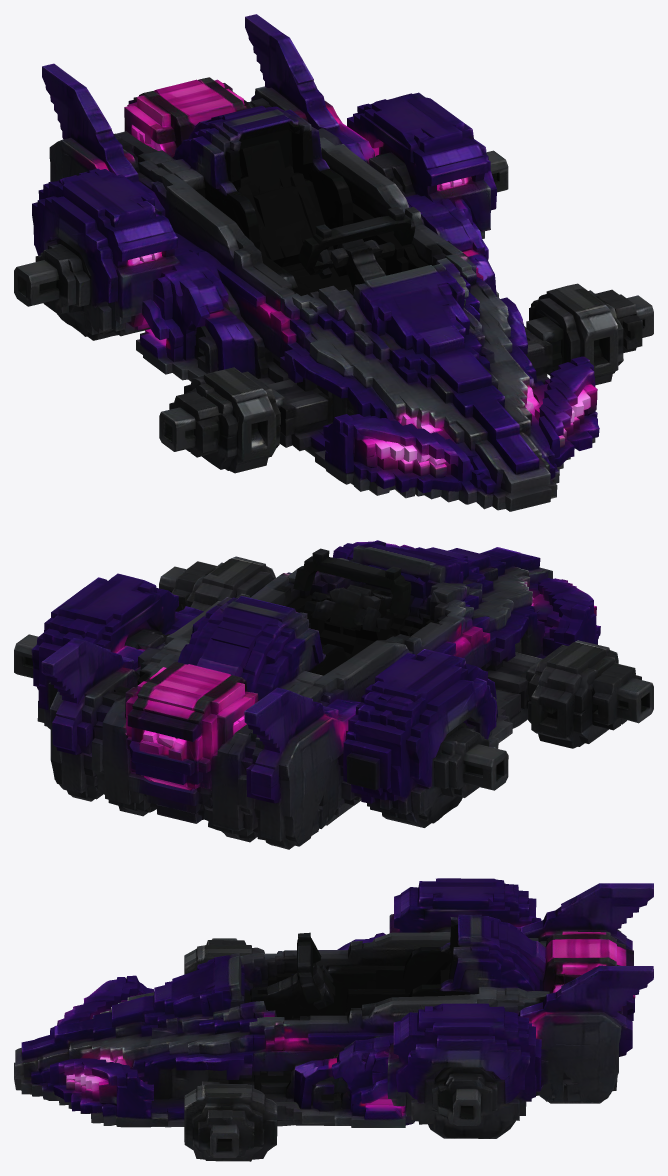
The model's file is violet-mech.glb.
3 views of the same model, one above another, from view 1: azimuth 30°, elevation 25°; view 2: azimuth 150°, elevation 25°; view 3: azimuth 270°, elevation 25° (orthographic). The views are drawn at different scales.
Visible parts, largest first — view 1: model; view 2: model; view 3: model.
Boxes of the visible parts, x1=… form: model: x1=14, y1=14, x2=653, y2=511; model: x1=14, y1=540, x2=653, y2=849; model: x1=14, y1=878, x2=653, y2=1161.
Bounding box in the file's own units: 1.35 × 0.5159 × 1.88.
1 material, 1 textured.
